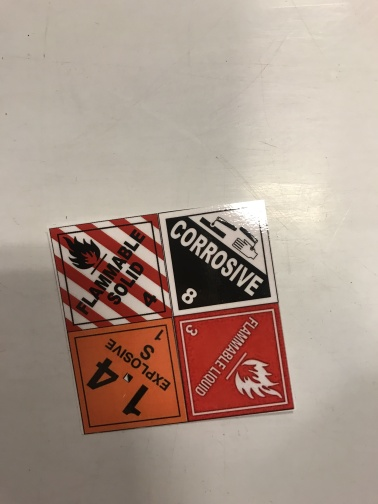Corrosive: (158, 200, 279, 317)
Explosive: (67, 317, 188, 435)
FlammableLiquid: (174, 301, 296, 419)
FlammableSolid: (48, 212, 174, 331)
